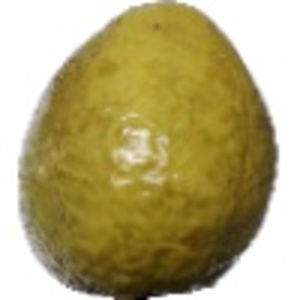goiaba: (10, 5, 281, 288)
